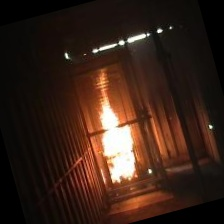fire: (83, 90, 149, 189)
